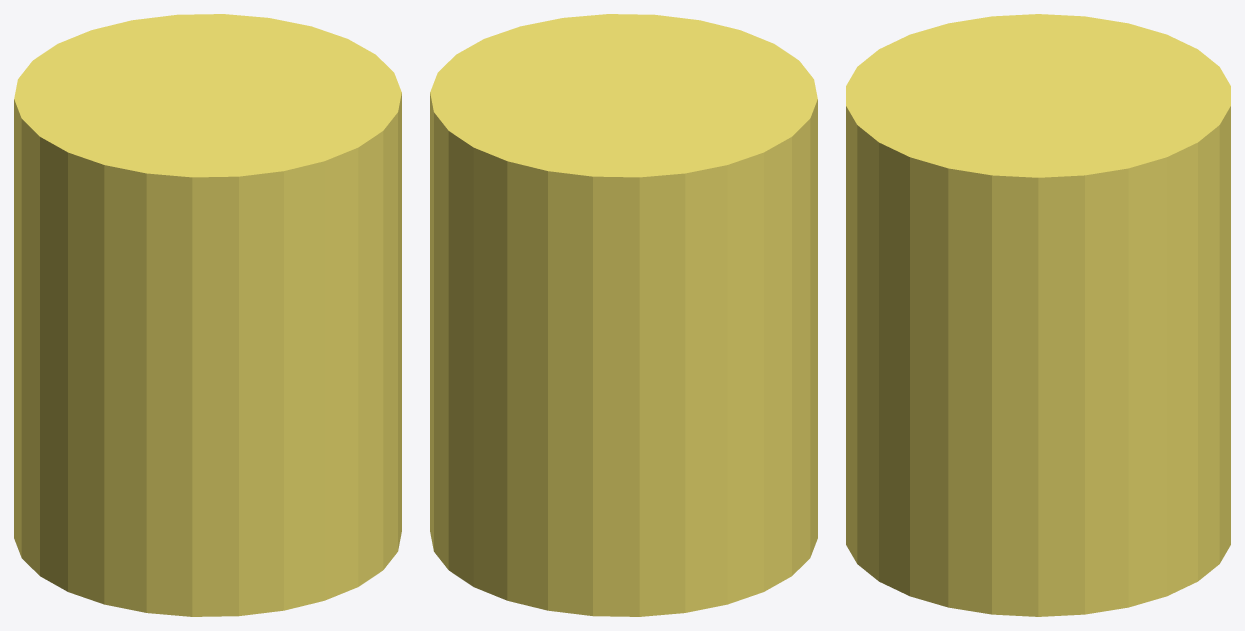
3 renders of one model, left to right at view 1: azimuth 30°, elevation 25°; view 2: azimuth 150°, elevation 25°; view 3: azimuth 270°, elevation 25°, orthographic.
Bounding box in the file's own units: 16 × 20 × 15.88.
